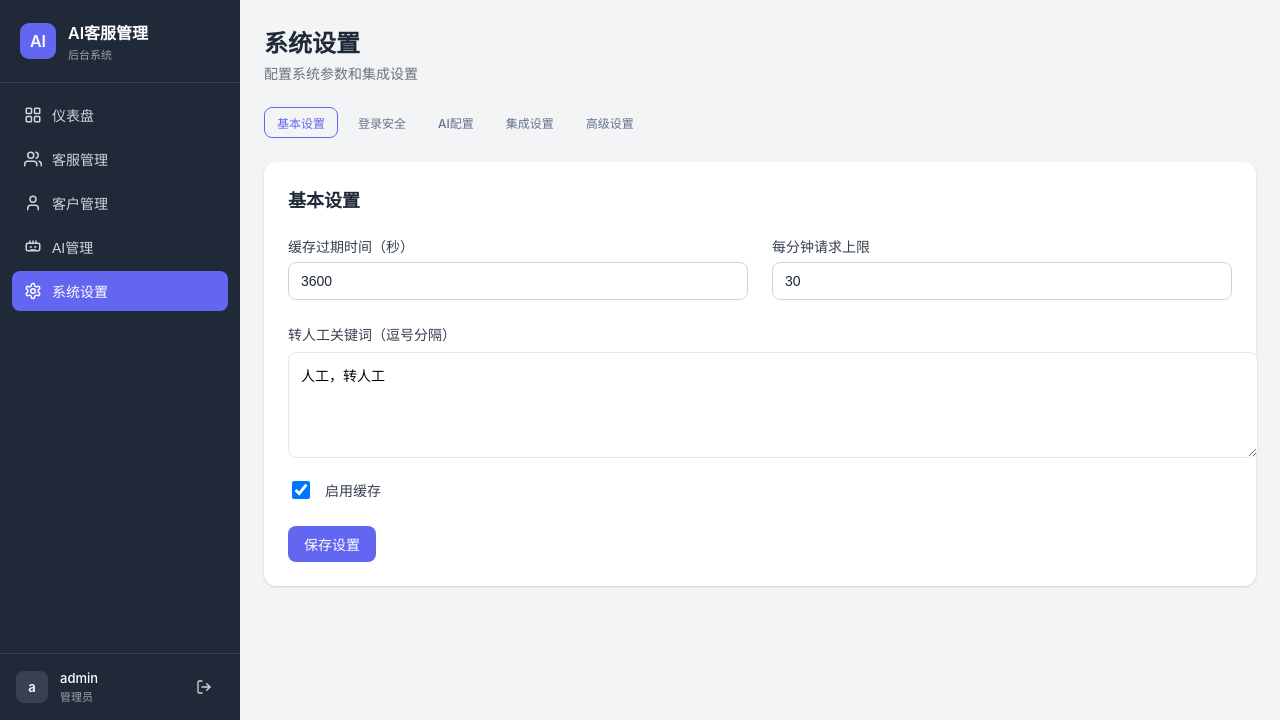
it: SettingsPage 系统设置 › 集成设置 tab 显示集成项
This screenshot has width=1280, height=720.
Expected: the text "缓存过期时间（秒）" is shown, x1=288 y1=238 x2=414 y2=255
Click the button "集成设置" at [530, 122], box x1=494 y1=107 x2=566 y2=138
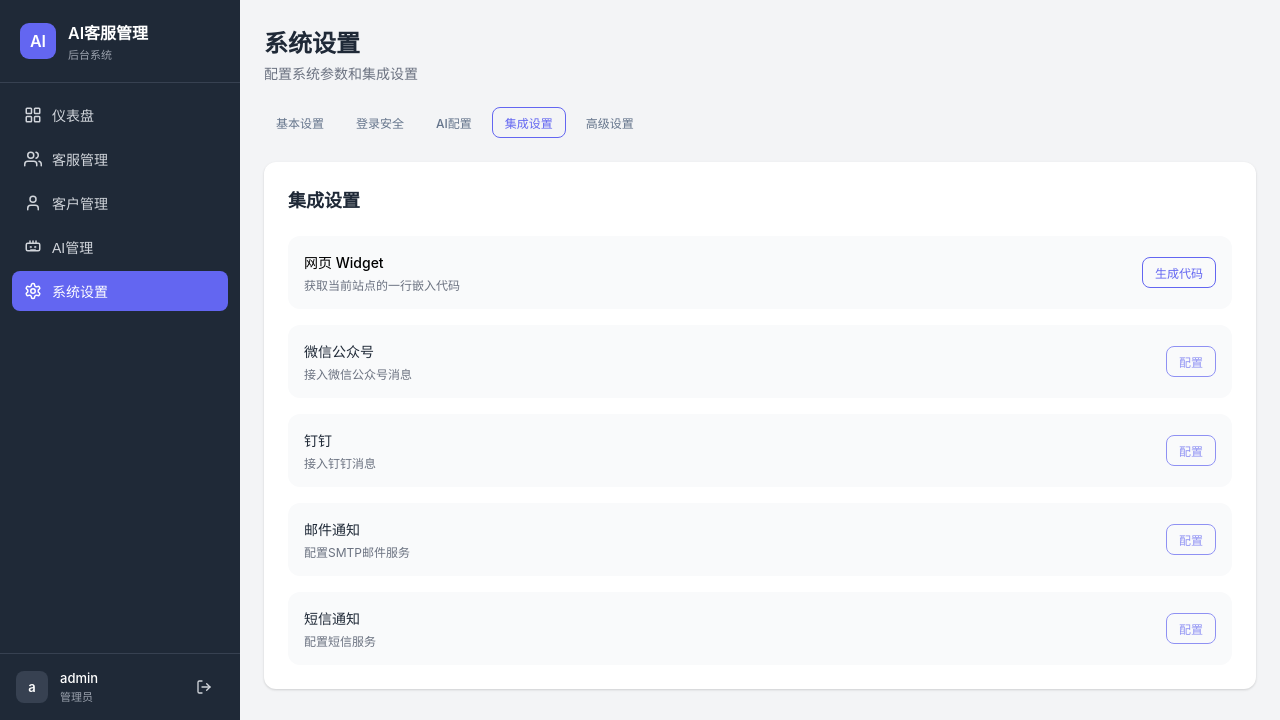
Result: the text "微信公众号" is shown at x1=304 y1=343 x2=374 y2=360
Result: the text "钉钉" is shown at x1=304 y1=432 x2=332 y2=449
Result: the text "网页 Widget" is shown at x1=304 y1=254 x2=384 y2=271
